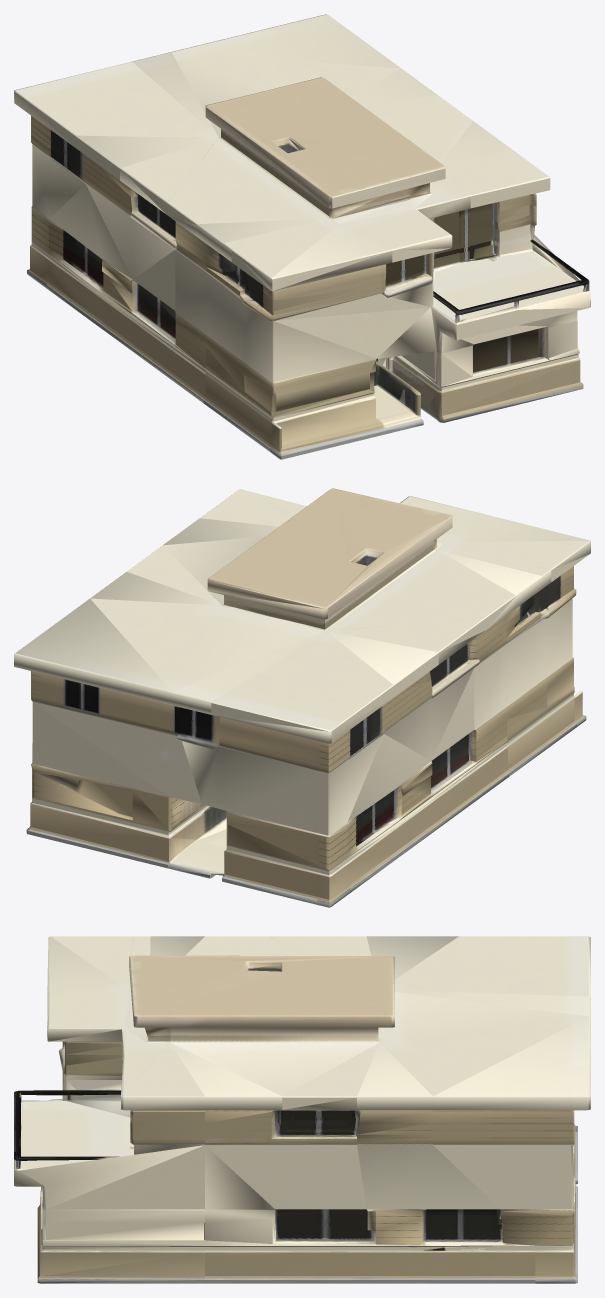
File: placed_bld_556597974.glb
3 renders of one model, top to bottom at view 1: azimuth 30°, elevation 25°; view 2: azimuth 150°, elevation 25°; view 3: azimuth 270°, elevation 25°, orthographic. The views are drawn at different scales.
Visible parts, largest first — view 1: bld_556597974; view 2: bld_556597974; view 3: bld_556597974.
Boxes of the visible parts, <box> form: bld_556597974: <box>14,14,590,459</box>; bld_556597974: <box>14,488,590,907</box>; bld_556597974: <box>14,936,590,1283</box>.
Bounding box in the file's own units: 12.74 × 8.2 × 19.31.
Materials: 1 (1 with a texture image).
